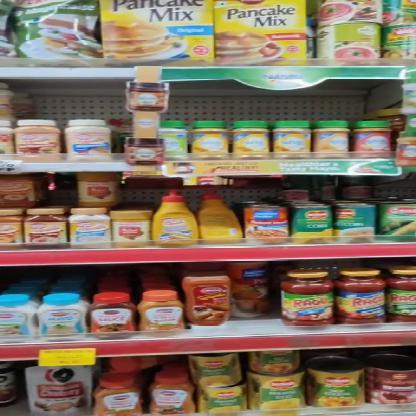Nutralite ACHARI MAYO 300g-275g-25g-: (232, 120, 270, 159), (272, 121, 310, 160), (191, 119, 227, 158)
Nutralite CHEESY GARLIC MAYO 300g-275g-25g-: (314, 118, 350, 158)
Nutralite TANDOORI MAYO 300g-275g-25g-: (354, 118, 392, 157)
Nutralite VEG MAYO 300g-275g-25g-: (158, 122, 187, 158)
